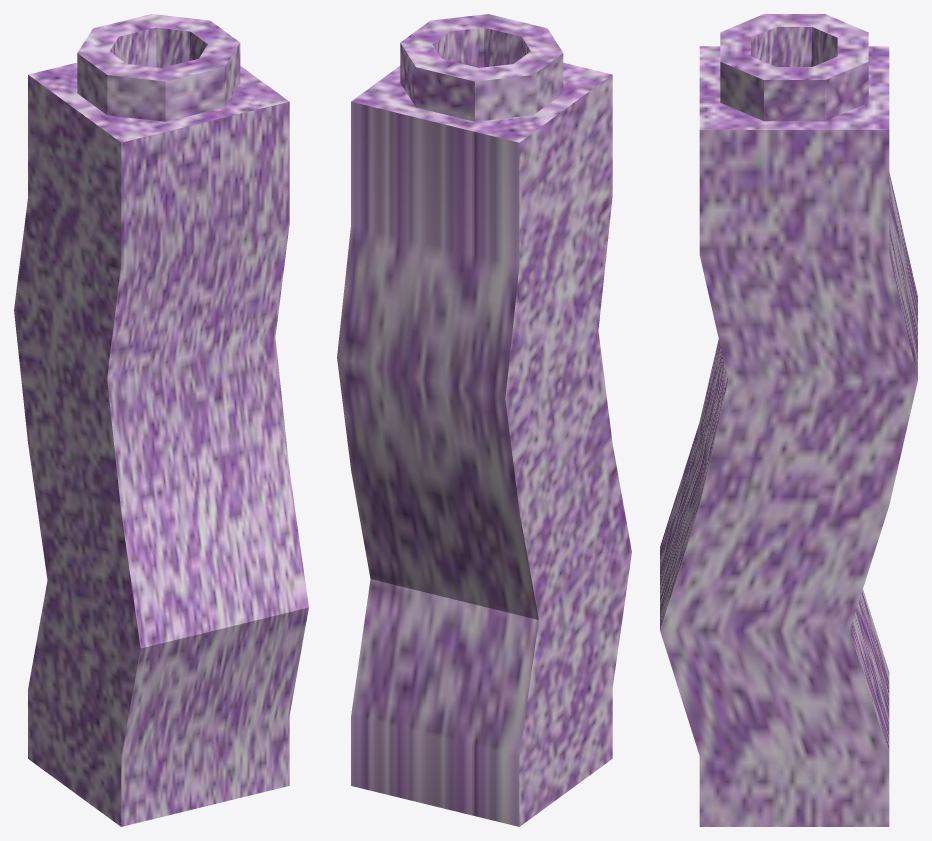
Rendered from weegle pot1.FBX.
3 renders of one model, left to right at view 1: azimuth 30°, elevation 25°; view 2: azimuth 150°, elevation 25°; view 3: azimuth 270°, elevation 25°, orthographic.
Visible parts, largest first — view 1: Box001; view 2: Box001; view 3: Box001.
Part boxes in pixels (left/top/right/bottom): Box001: left=14, top=14, right=308, bottom=826; Box001: left=337, top=14, right=631, bottom=826; Box001: left=660, top=14, right=917, bottom=826.
Bounding box in the file's own units: 226 × 928 × 294.
1 material, 1 textured.
